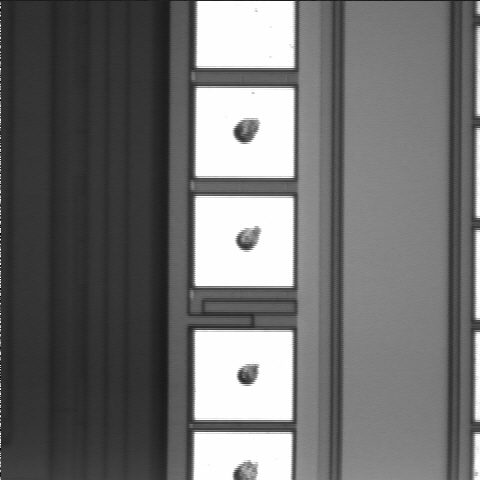pad: (196, 88, 294, 178), (195, 196, 293, 286), (195, 330, 293, 420)
